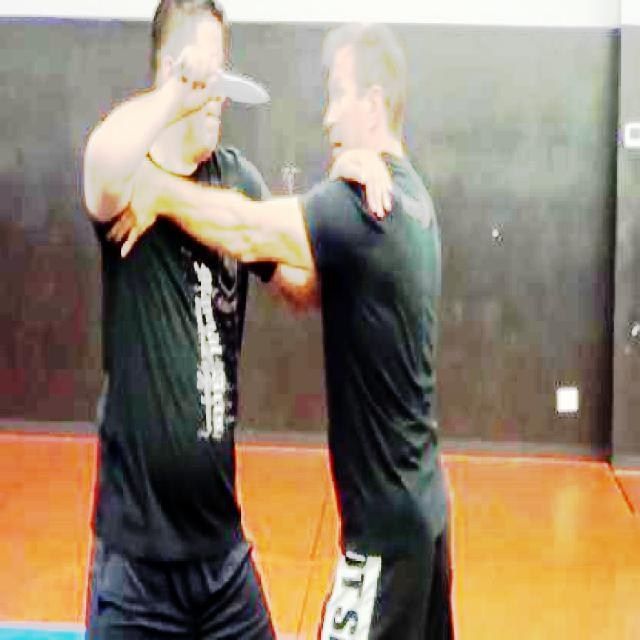Knife: (178, 60, 274, 115)
